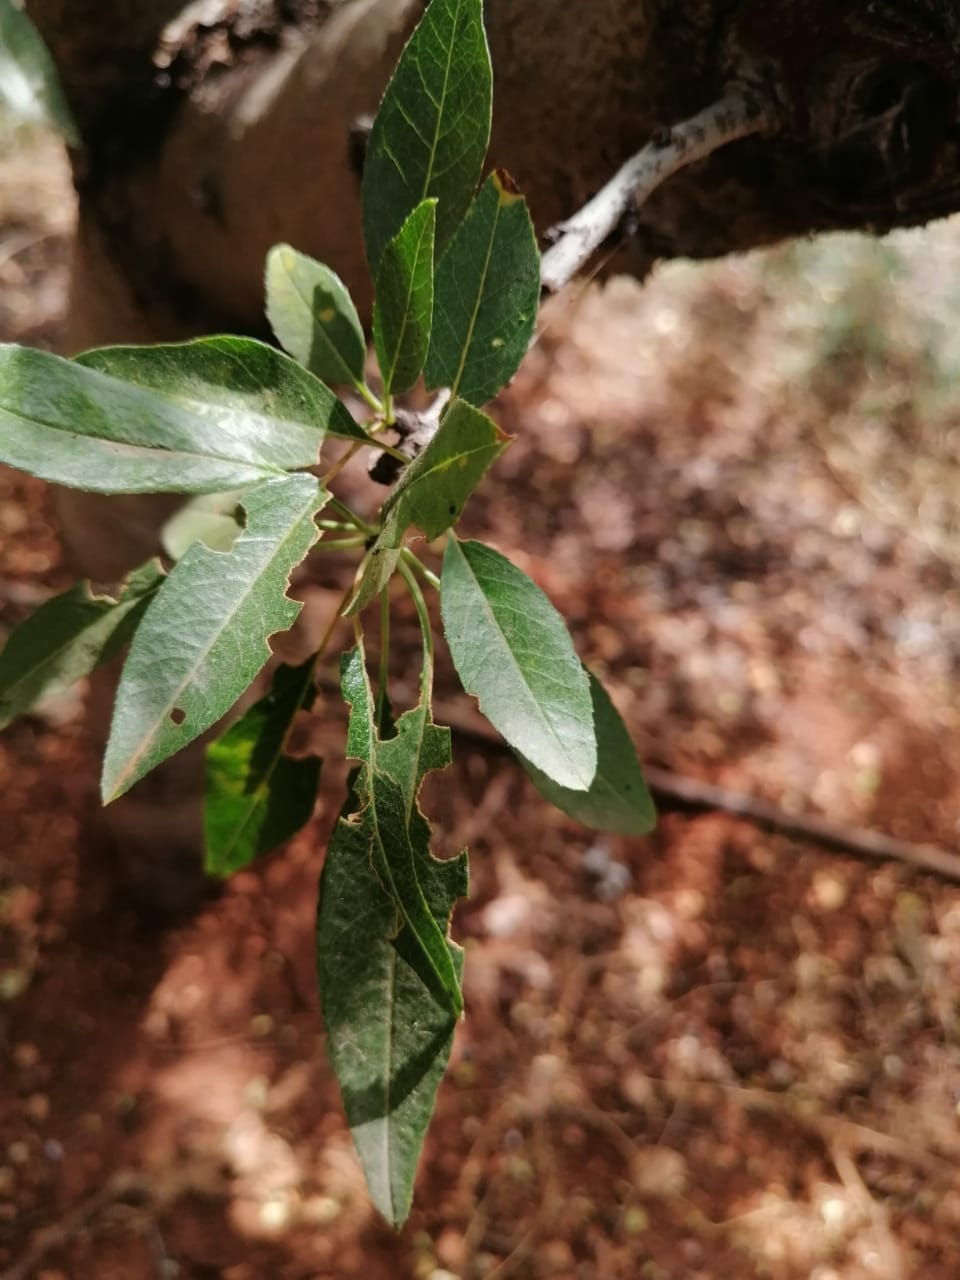othyorinques: (318, 699, 471, 1230), (99, 473, 334, 804), (369, 395, 517, 544)
